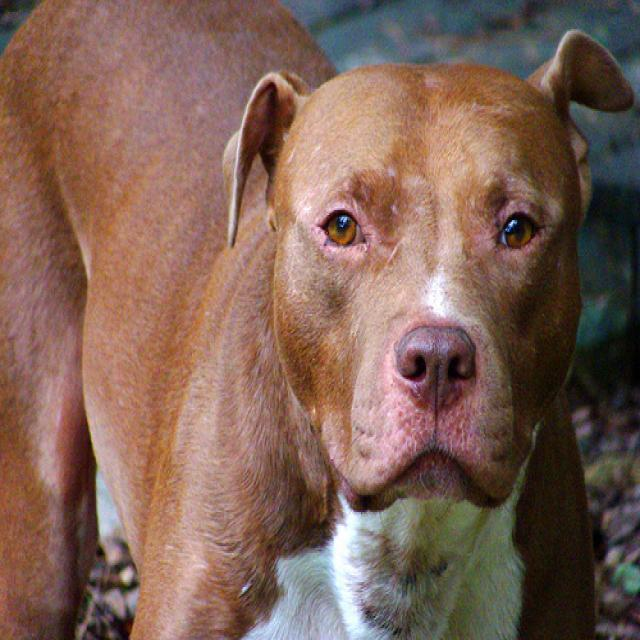dog-american_pit_bull_terrier: (1, 2, 637, 637)
